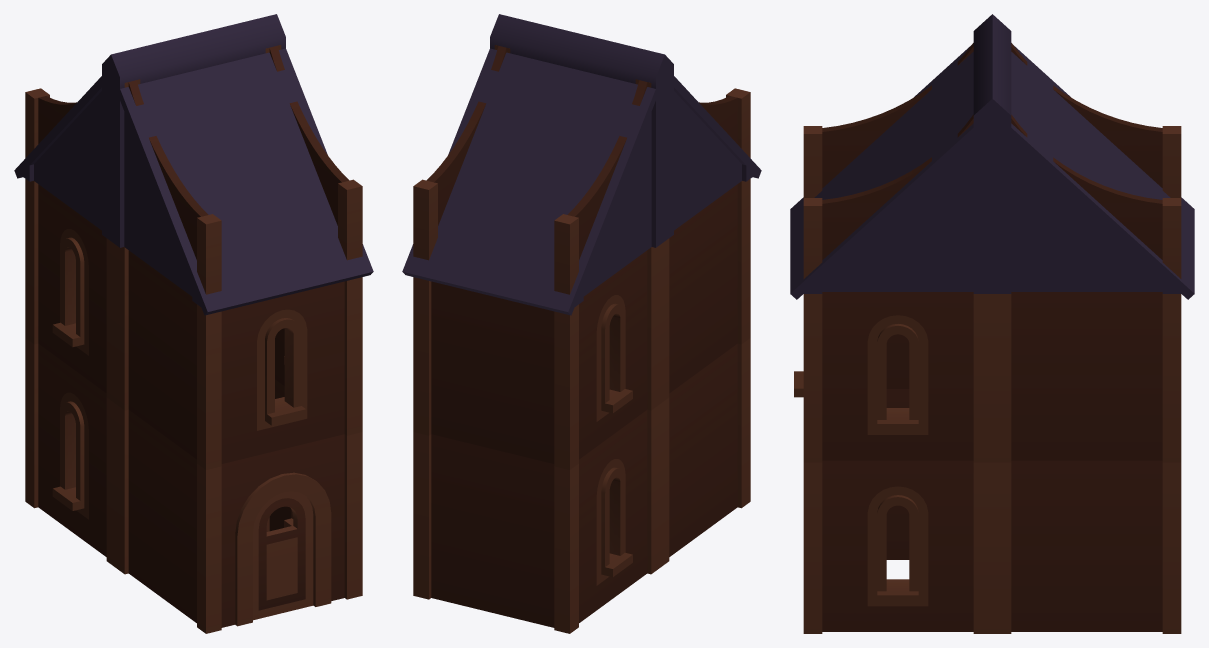
File: hutte-sorciere-3.glb
The picture shows the model from 3 angles, left to right: view 1: azimuth 30°, elevation 25°; view 2: azimuth 150°, elevation 25°; view 3: azimuth 270°, elevation 25°; orthographic projection. The views are drawn at different scales.
Visible parts, largest first — view 1: wall-wood-door, roof-high; view 2: wall-wood-door, roof-high; view 3: wall-wood-door, roof-high.
Part boxes in pixels (x1,y1,x2,y2): wall-wood-door: (25,45,362,633); roof-high: (14,14,373,315); wall-wood-door: (413,45,750,633); roof-high: (402,14,761,315); wall-wood-door: (794,43,1181,633); roof-high: (790,14,1194,299).
Size of the model in its own units: 3.3 by 9.42 by 6.42.
Materials: 2 (1 with a texture image).
